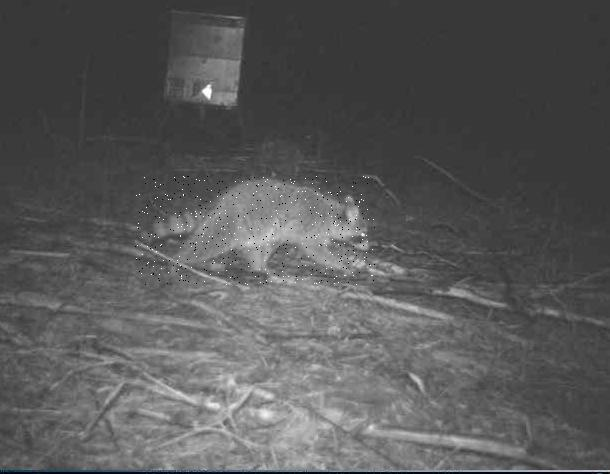Raccoon: (136, 176, 376, 286)
